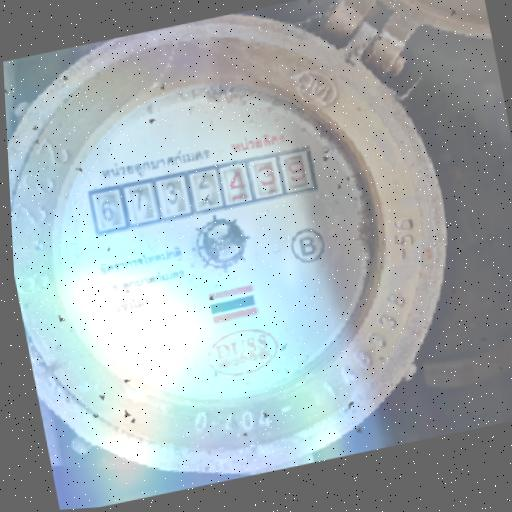2: (195, 173, 218, 209)
3: (253, 160, 279, 197), (162, 180, 187, 215)
4: (223, 167, 249, 204)
6: (97, 194, 122, 228)
7: (129, 186, 155, 223)
9: (284, 155, 309, 189)
border_water_meter_number: (87, 144, 321, 236)
